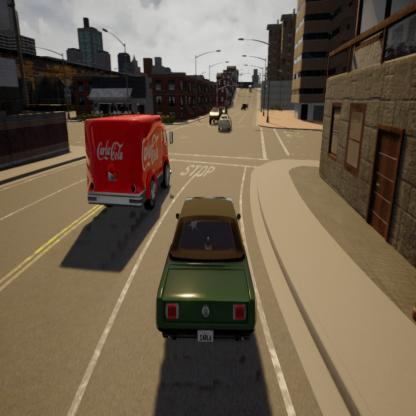Cars: (151, 146, 271, 376), (70, 54, 177, 251), (218, 106, 243, 154), (202, 84, 223, 132), (238, 93, 252, 117)
